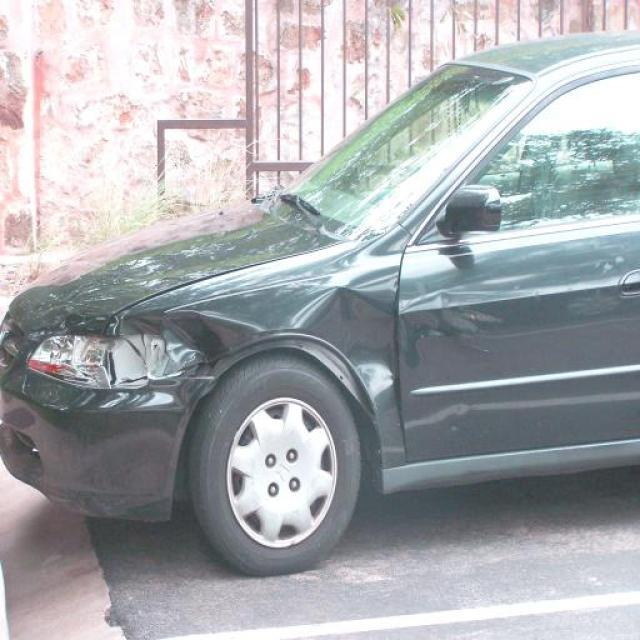Car-Damage: (291, 286, 399, 417), (23, 333, 209, 388)
